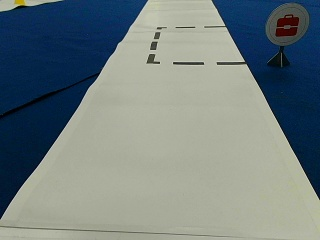company: (266, 3, 309, 44)
